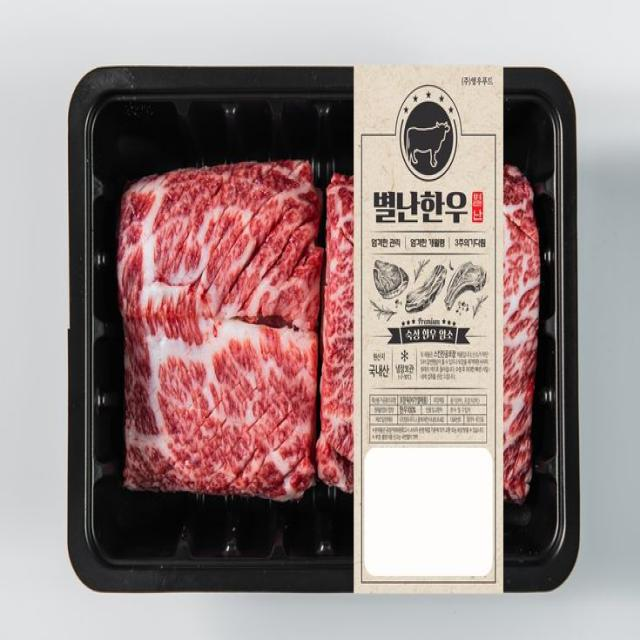beef: (83, 80, 560, 600)
